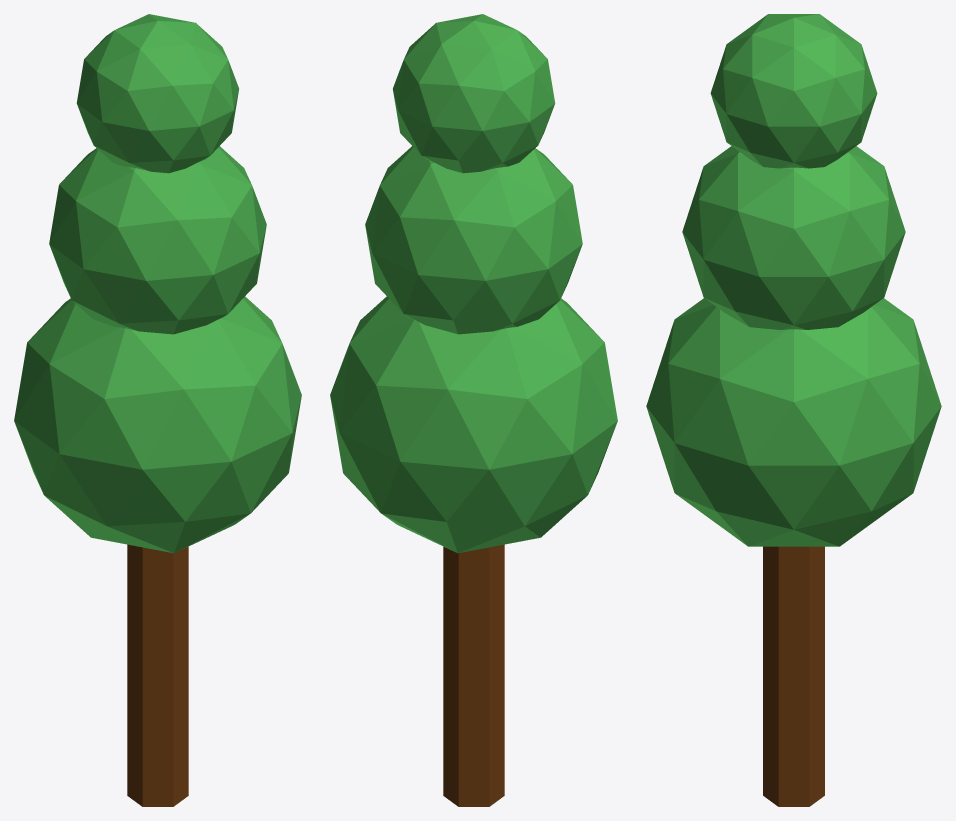
Rendered from Tree_18.fbx.
3 renders of one model, left to right at view 1: azimuth 30°, elevation 25°; view 2: azimuth 150°, elevation 25°; view 3: azimuth 270°, elevation 25°, orthographic.
Parts seen in each view (by area): view 1: Tree_18; view 2: Tree_18; view 3: Tree_18.
Boxes of the visible parts, x1=… form: Tree_18: x1=14, y1=14, x2=301, y2=806; Tree_18: x1=330, y1=14, x2=617, y2=806; Tree_18: x1=646, y1=14, x2=941, y2=806.
Size of the model in its own units: 909 by 2776 by 956.
